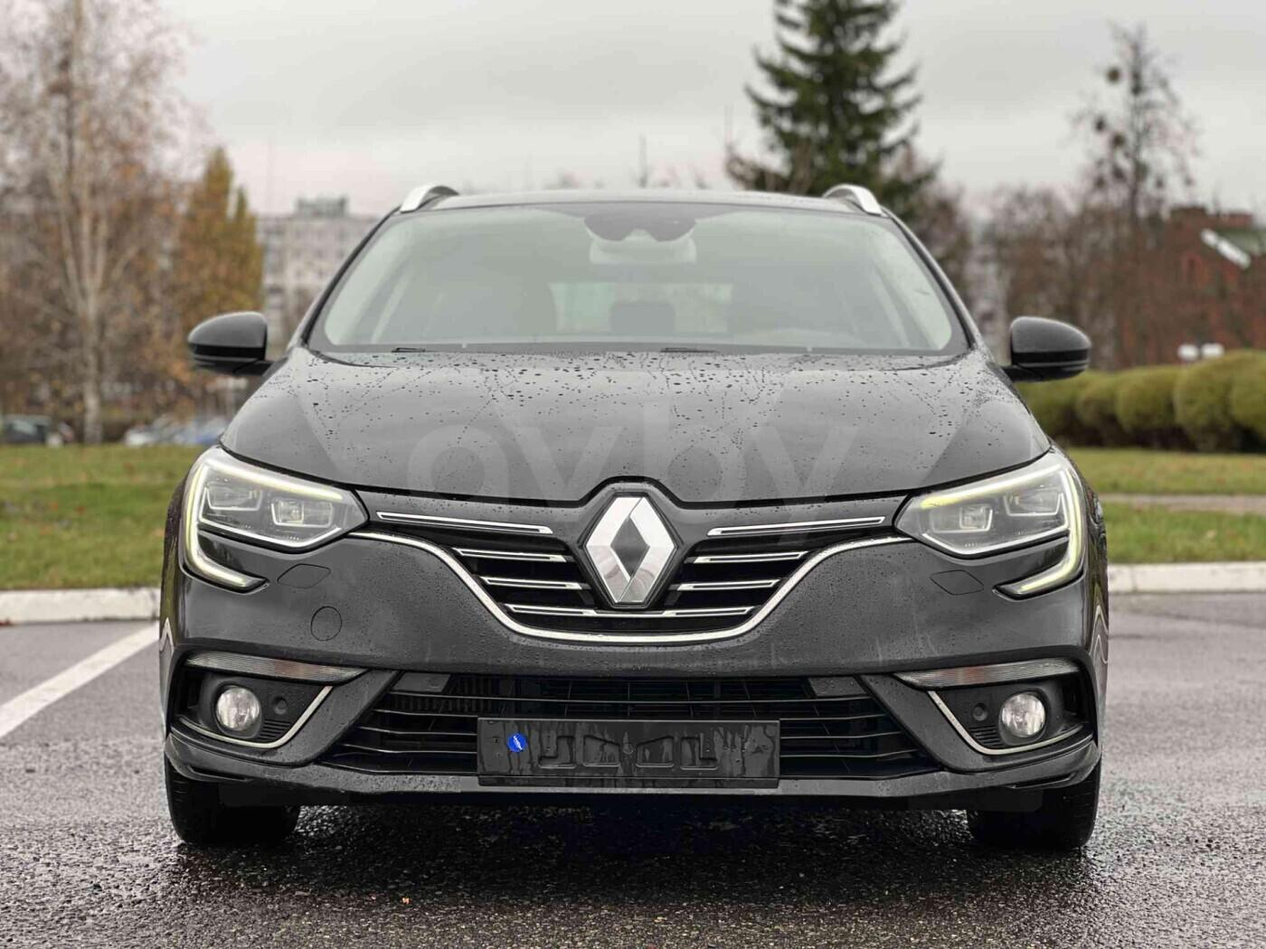Megane_2016-2020: (164, 179, 1123, 866)
